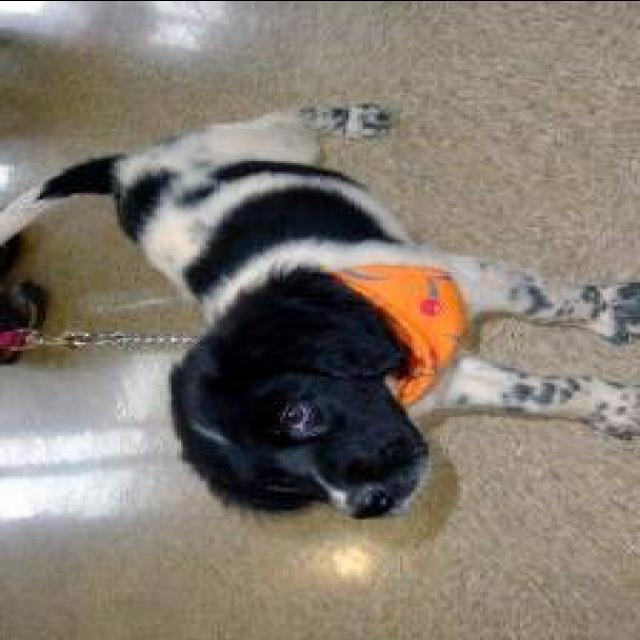dog: (31, 86, 640, 528)
